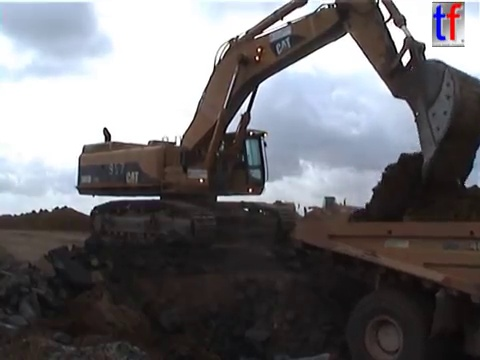excavator: (70, 1, 480, 250)
truck: (286, 216, 480, 360)
wheel loader: (297, 195, 366, 230)
